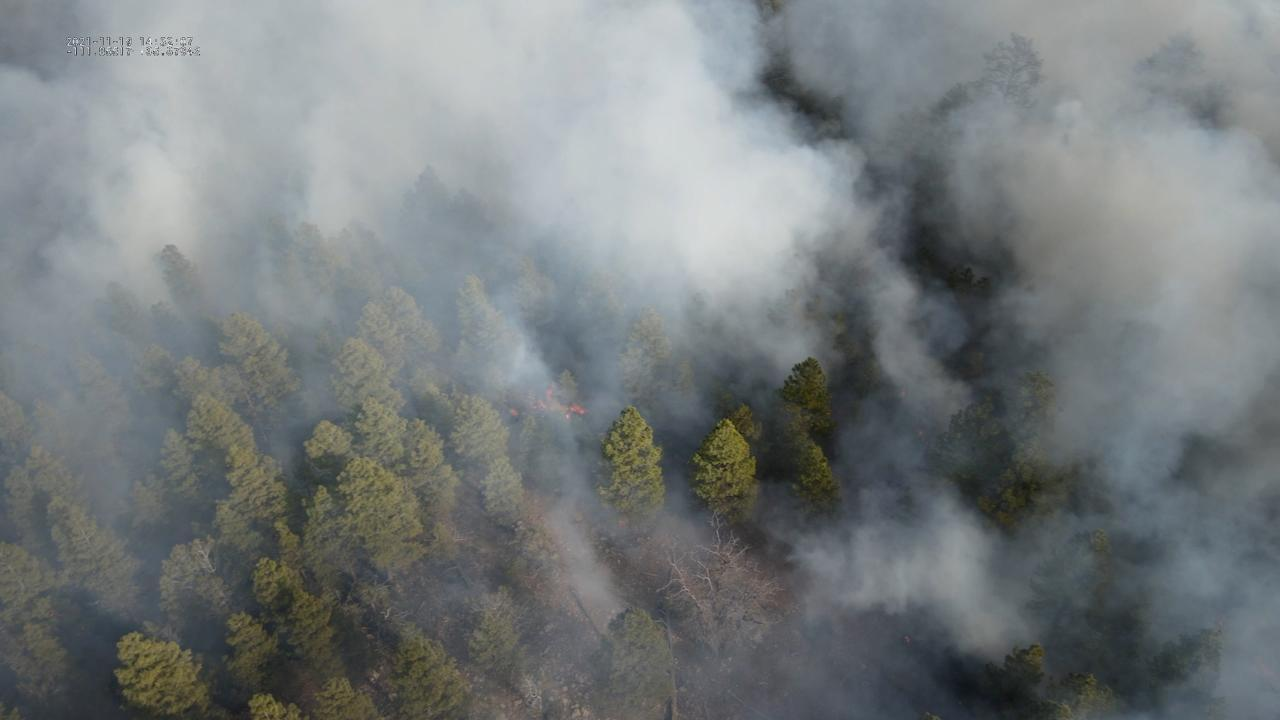fire: (531, 385, 591, 423), (506, 407, 520, 417)
smoke: (0, 0, 1280, 720)
